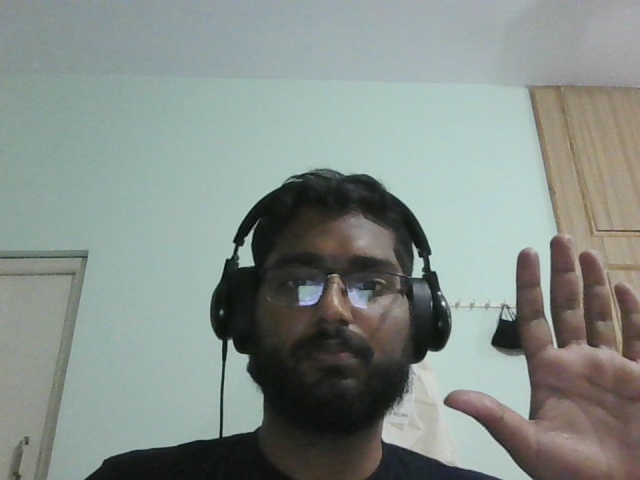Hello: (442, 233, 640, 480)
